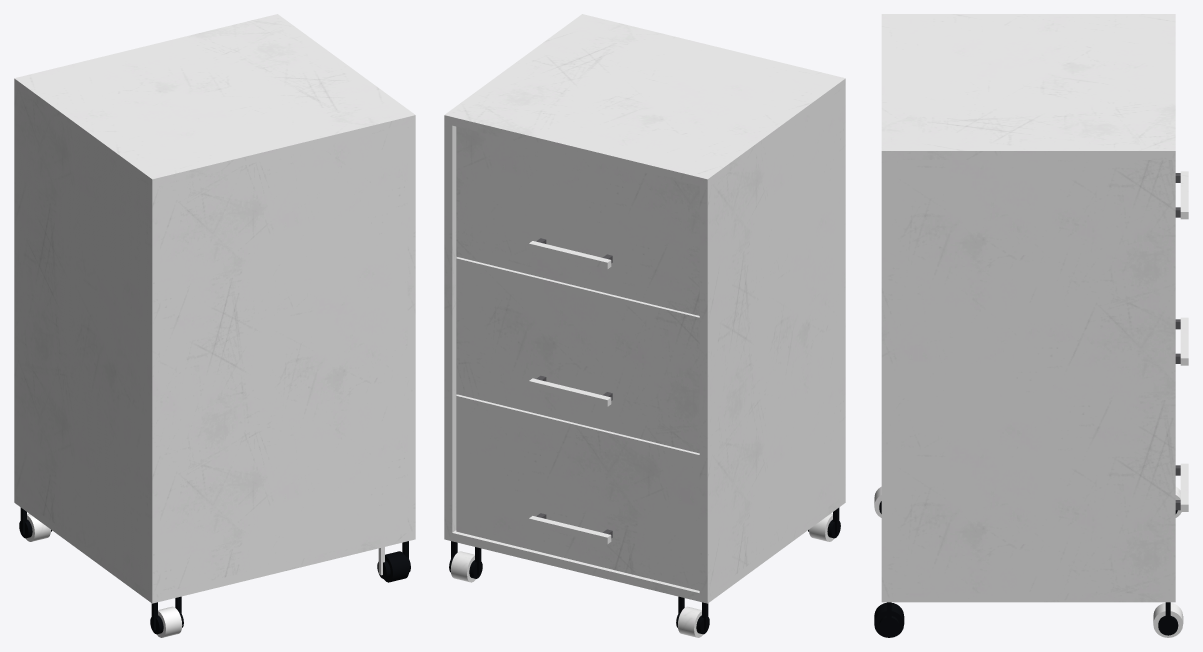
File: FileCabinet.obj
3 renders of one model, left to right at view 1: azimuth 30°, elevation 25°; view 2: azimuth 150°, elevation 25°; view 3: azimuth 270°, elevation 25°, orthographic. The views are drawn at different scales.
Visible parts, largest first — view 1: Part30, Part15, Part29, Part31, Part37, Part34, Part18; view 2: Part15, Part29, Part11, Part25, Part21, Part37, Part31, Part26, Part12, Part22, Part8, Part3; view 3: Part37, Part29, Part31, Part8, Part34.
Part boxes in pixels (left/top/right/bottom): Part30: left=160, top=125, right=407, bottom=592; Part15: left=14, top=87, right=160, bottom=594; Part29: left=14, top=14, right=415, bottom=187; Part31: left=14, top=494, right=415, bottom=603; Part37: left=407, top=123, right=415, bottom=532; Part34: left=384, top=551, right=409, bottom=582; Part18: left=157, top=606, right=182, bottom=637; Part15: left=699, top=87, right=845, bottom=594; Part29: left=444, top=14, right=845, bottom=187; Part11: left=456, top=394, right=699, bottom=590; Part25: left=456, top=257, right=699, bottom=453; Part21: left=456, top=126, right=699, bottom=315; Part37: left=444, top=123, right=457, bottom=532; Part31: left=444, top=494, right=845, bottom=603; Part26: left=529, top=378, right=611, bottom=406; Part12: left=529, top=516, right=611, bottom=544; Part22: left=529, top=241, right=611, bottom=269; Part8: left=450, top=551, right=475, bottom=582; Part3: left=678, top=606, right=703, bottom=637; Part37: left=881, top=160, right=1175, bottom=593; Part29: left=881, top=14, right=1175, bottom=159; Part31: left=881, top=593, right=1175, bottom=602; Part8: left=1153, top=603, right=1183, bottom=637; Part34: left=874, top=603, right=904, bottom=637.
Size of the model in its own units: 8.13 by 13.63 by 7.89.
5 materials, 3 textured.
